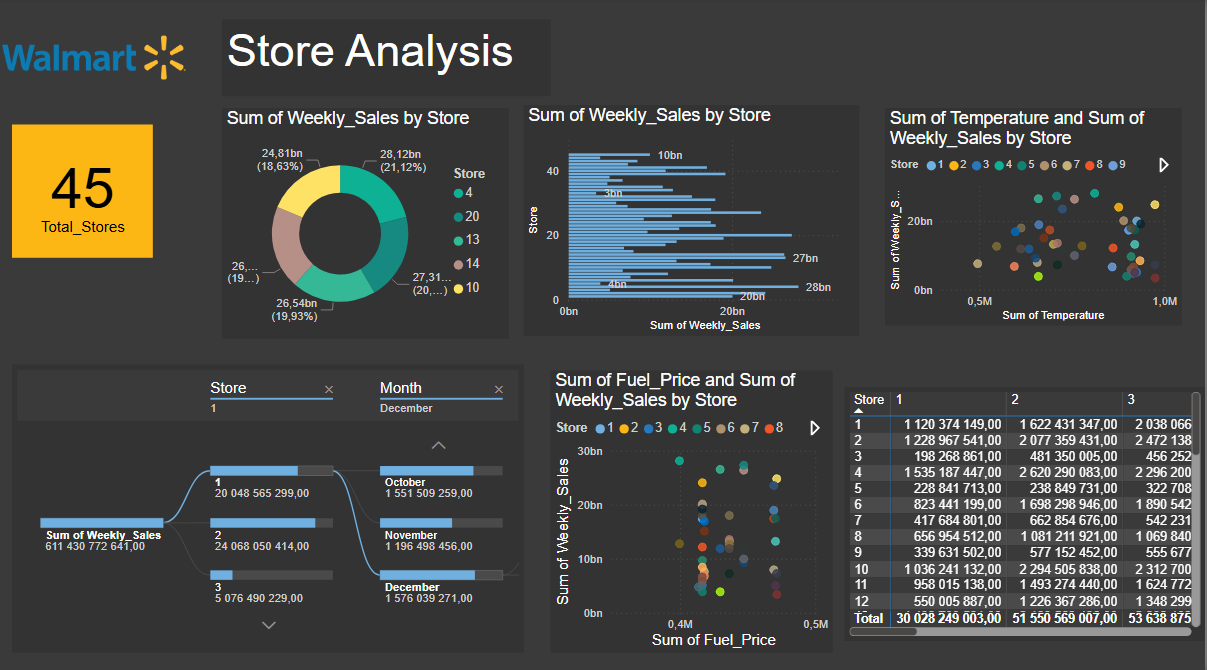

The page's visual inventory and layout, read from the dashboard file:
{"tool":"powerbi","page":{"name":"Page 2","canvas":[1280,720],"ordinal":1},"visuals":[{"type":"donutChart","title":"Top 5 Stores by Sales","fields":{"Category":["SalesData.Store"],"Y":["Sum(SalesData.Weekly_Sales)"]},"box":[238.6,117.7,303.8,245],"z":0},{"type":"clusteredBarChart","title":"Weekly_Sales by Store","fields":{"Category":["Walmart.Store"],"Y":["Sum(Walmart.Weekly_Sales)"]},"box":[558.3,114.5,356.3,245],"z":1000},{"type":"pivotTable","fields":{"Rows":["Walmart.Store"],"Values":["Sum(Walmart.Weekly_Sales)"],"Columns":["Walmart.MonthNumber"]},"box":[898.7,426.3,381.7,268.8],"z":2000},{"type":"decompositionTreeVisual","fields":{"Analyze":["Sum(SalesData.Weekly_Sales)"],"ExplainBy":["SalesData.Store","DateTable.Month","SalesData.Holiday_Flag","DateTable.Quarter","SalesData.Temperature","SalesData.CPI"]},"box":[15.9,389.7,526.5,292.7],"z":3000},{"type":"scatterChart","title":"Temperature and Weekly_Sales by Store","fields":{"X":["Sum(SalesData.Temperature)"],"Y":["Sum(SalesData.Weekly_Sales)"],"Series":["SalesData.Store"]},"box":[914.6,49.3,354.7,324.5],"z":4000},{"type":"card","fields":{"Values":["DateTable.Total_Stores"]},"box":[15.9,135.2,149.5,141.6],"z":5000},{"type":"scatterChart","title":"Fuel_Price and Weekly_Sales by Store","fields":{"X":["Sum(SalesData.Fuel_Price)"],"Y":["Sum(SalesData.Weekly_Sales)"],"Series":["SalesData.Store"]},"box":[542.4,389.7,340.4,305.4],"z":6000},{"type":"image","box":[0,17.5,205.2,93.8],"z":6001},{"type":"textbox","box":[238.6,23.9,348.3,81.1],"z":6002}]}

Visuals, with their boxes in screenshot pixels (x1, y1, x2, y2), scaled from the page's 1280x720 canvas onto the 1207x670 screenshot:
"Top 5 Stores by Sales" donutChart: {"x1": 225, "y1": 110, "x2": 511, "y2": 338}
"Weekly_Sales by Store" clusteredBarChart: {"x1": 526, "y1": 107, "x2": 862, "y2": 335}
pivotTable - Walmart.Store x Sum(Walmart.Weekly_Sales): {"x1": 847, "y1": 397, "x2": 1206, "y2": 647}
decompositionTreeVisual - Sum(SalesData.Weekly_Sales) x SalesData.Store: {"x1": 15, "y1": 363, "x2": 511, "y2": 635}
"Temperature and Weekly_Sales by Store" scatterChart: {"x1": 862, "y1": 46, "x2": 1197, "y2": 348}
card - DateTable.Total_Stores: {"x1": 15, "y1": 126, "x2": 156, "y2": 258}
"Fuel_Price and Weekly_Sales by Store" scatterChart: {"x1": 511, "y1": 363, "x2": 832, "y2": 647}
image: {"x1": 0, "y1": 16, "x2": 193, "y2": 104}
textbox: {"x1": 225, "y1": 22, "x2": 553, "y2": 98}
